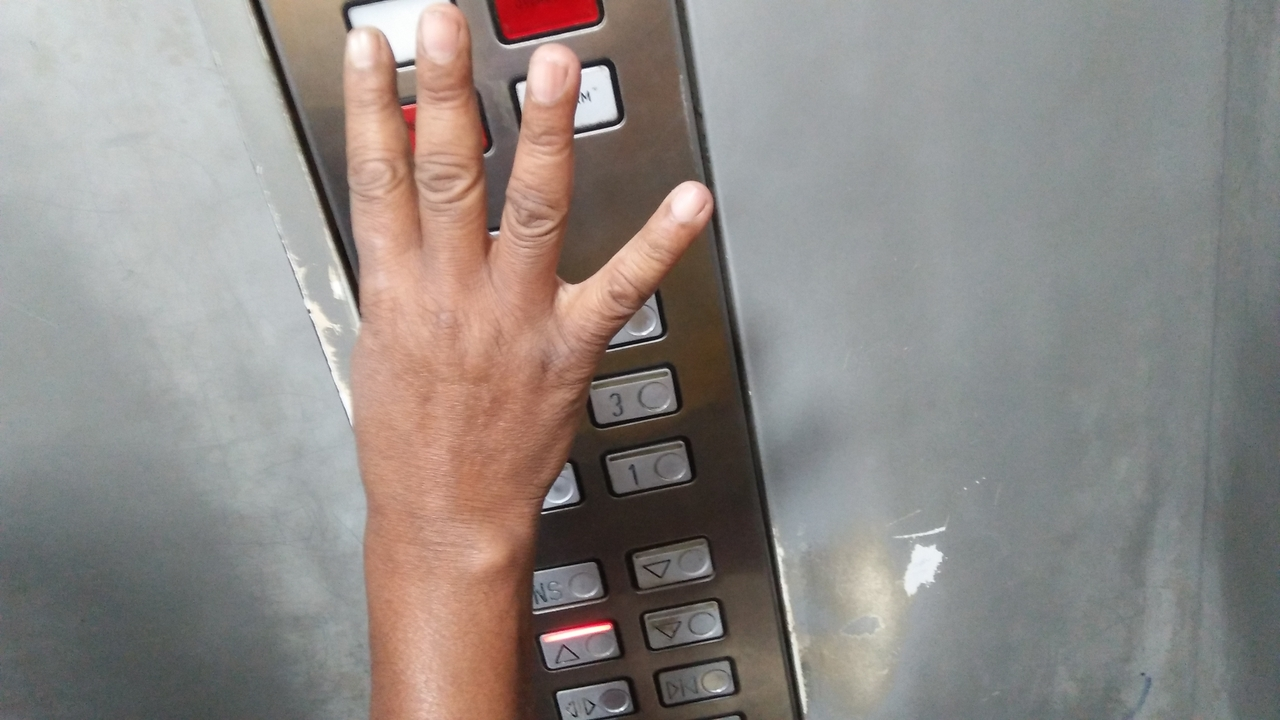fingertip: (520, 34, 582, 106), (654, 172, 718, 236), (408, 0, 470, 66), (338, 20, 392, 78)
